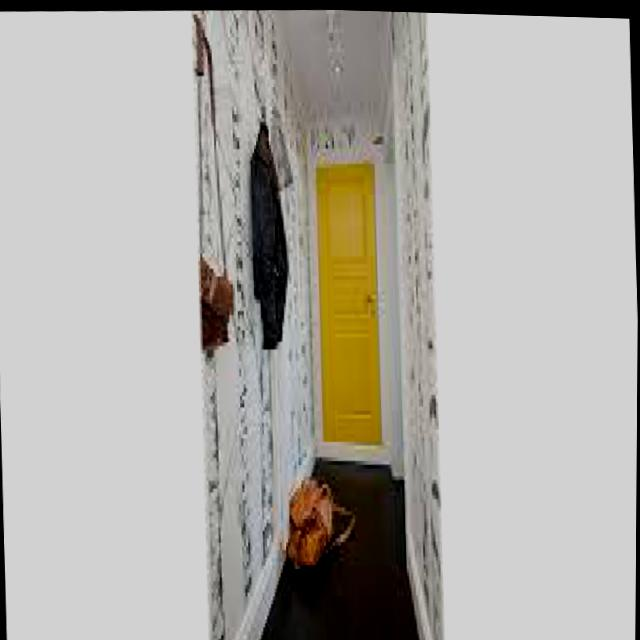close: (300, 136, 401, 492)
